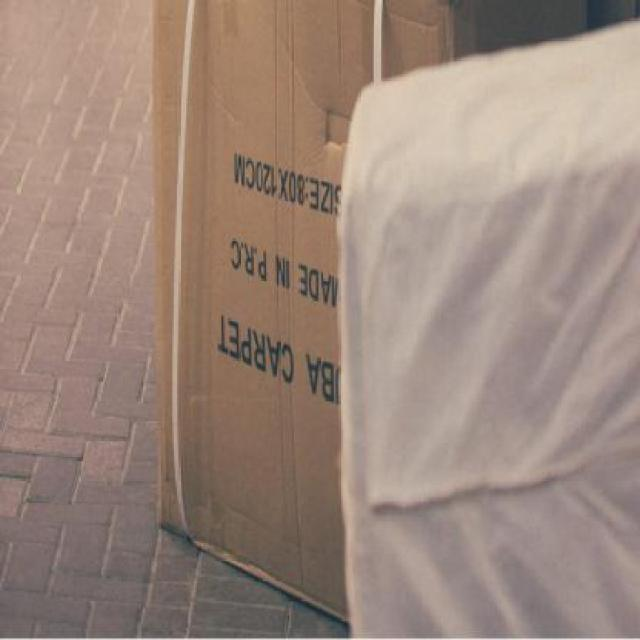box: (150, 0, 606, 624)
